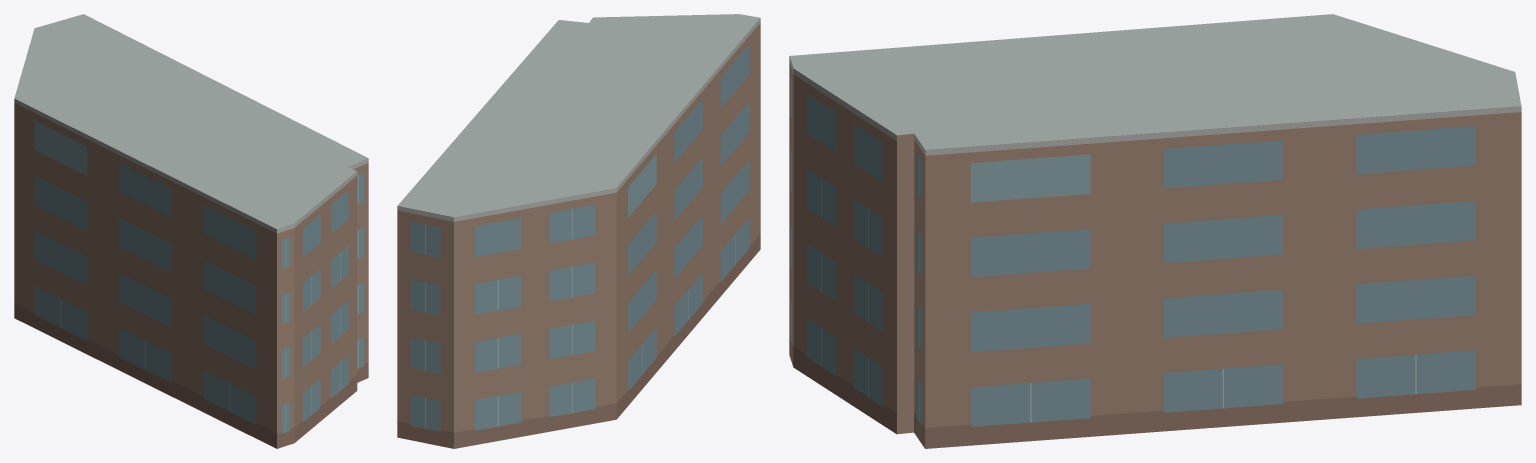
The model's file is survey-upis-32760979.glb.
3 views of the same model, side by side, from view 1: azimuth 30°, elevation 25°; view 2: azimuth 150°, elevation 25°; view 3: azimuth 270°, elevation 25° (orthographic). The views are drawn at different scales.
Visible parts, largest first — view 1: survey-upis-32760979.tmp; view 2: survey-upis-32760979.tmp; view 3: survey-upis-32760979.tmp.
Boxes of the visible parts, bbox=[...] form: survey-upis-32760979.tmp: bbox=[14, 14, 368, 448]; survey-upis-32760979.tmp: bbox=[397, 14, 760, 448]; survey-upis-32760979.tmp: bbox=[789, 14, 1521, 448].
Bounding box in the file's own units: 12 × 12.3 × 27.31.
